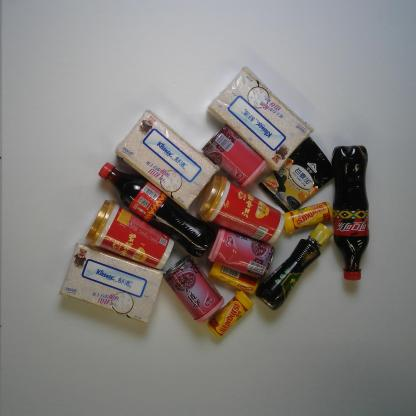Candy: (208, 289, 258, 336), (206, 262, 258, 297), (285, 198, 331, 232)
Canned Food: (207, 120, 267, 189), (166, 258, 224, 322), (202, 233, 274, 274)
Drink: (98, 161, 215, 255), (333, 139, 370, 281)
Instant Drink: (86, 200, 175, 270), (202, 174, 284, 246), (261, 138, 335, 210)
Seasoner: (262, 226, 332, 314)
Tissue: (206, 60, 312, 170), (113, 113, 216, 210), (58, 246, 158, 323)
